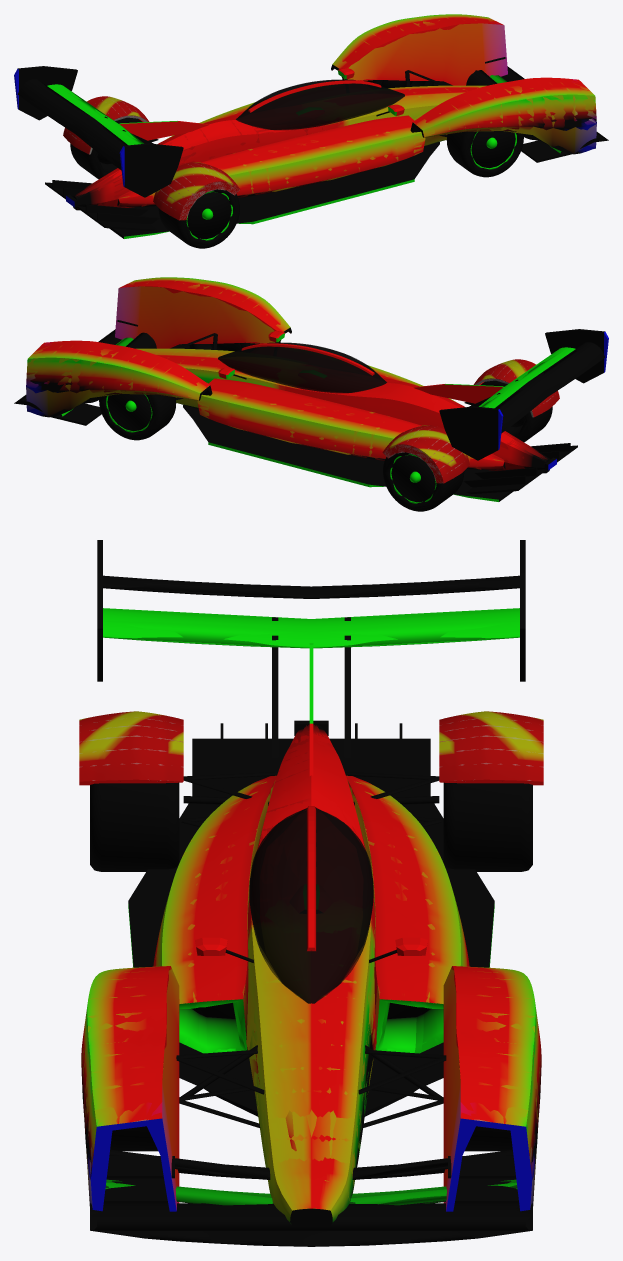
File: stratos.glb
The picture shows the model from 3 angles, top to bottom: view 1: azimuth 30°, elevation 25°; view 2: azimuth 150°, elevation 25°; view 3: azimuth 270°, elevation 25°; orthographic projection. The views are drawn at different scales.
Visible parts, largest first — view 1: body_L0, body_L2, body_L1, glass_L0, glass_L1, wheel_RR_L2, wheel_FR_L2, glass_L2, wheel_FR_L0, wheel_RR_L0, wheel_RL_L0, wheel_FR_L1 (+1 smaller); view 2: body_L0, body_L2, glass_L0, body_L1, glass_L1, wheel_RL_L2, wheel_FL_L2, glass_L2, wheel_FL_L0, wheel_RL_L0, wheel_RR_L0, wheel_FL_L1 (+1 smaller); view 3: body_L0, body_L2, body_L1, glass_L0, glass_L1, wheel_RL_L0, wheel_RR_L0, glass_L2, wheel_FL_L0, wheel_FR_L0.
Boxes of the visible parts, box(x1,y1,x2,y2) form: body_L0: box(14, 14, 608, 238); body_L2: box(19, 22, 606, 219); body_L1: box(67, 14, 608, 219); glass_L0: box(236, 79, 404, 130); glass_L1: box(236, 80, 404, 129); wheel_RR_L2: box(182, 189, 238, 245); wheel_FR_L2: box(466, 131, 522, 174); glass_L2: box(239, 82, 403, 122); wheel_FR_L0: box(446, 131, 523, 177); wheel_RR_L0: box(158, 191, 239, 248); wheel_RL_L0: box(70, 117, 142, 179); wheel_FR_L1: box(450, 131, 522, 176); body_L0: box(14, 277, 608, 501); body_L2: box(16, 285, 603, 483); glass_L0: box(218, 342, 386, 393); body_L1: box(17, 277, 555, 482); glass_L1: box(218, 343, 386, 392); wheel_RL_L2: box(384, 452, 440, 508); wheel_FL_L2: box(100, 394, 156, 437); glass_L2: box(219, 345, 384, 385); wheel_FL_L0: box(99, 394, 176, 440); wheel_RL_L0: box(383, 454, 464, 511); wheel_RR_L0: box(480, 380, 552, 442); wheel_FL_L1: box(100, 394, 172, 439); body_L0: box(79, 540, 543, 1246); body_L2: box(80, 578, 542, 1230); body_L1: box(79, 588, 543, 1246); glass_L0: box(249, 807, 373, 1003); glass_L1: box(249, 807, 373, 1003); wheel_RL_L0: box(443, 783, 532, 871); wheel_RR_L0: box(90, 783, 179, 871); glass_L2: box(250, 814, 372, 1003); wheel_FL_L0: box(465, 1126, 512, 1151); wheel_FR_L0: box(110, 1126, 157, 1151).
Size of the model in its own units: 5.36 by 1.26 by 2.18.
